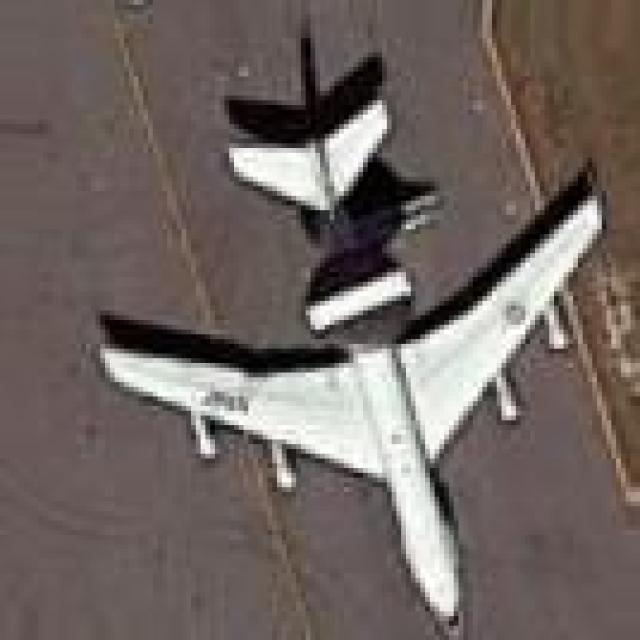E-3_TopDown: (82, 23, 615, 633)
